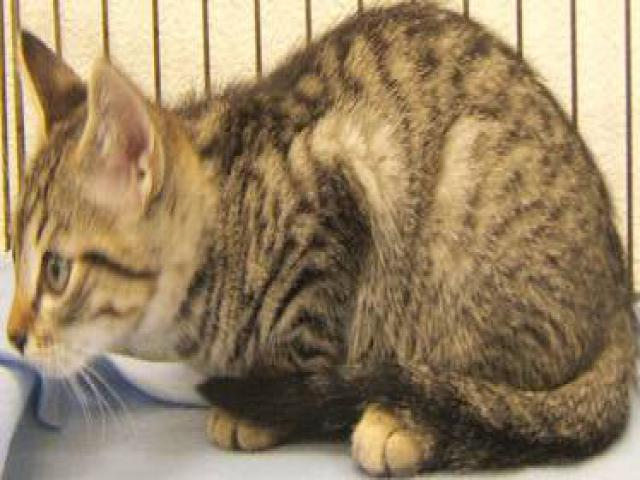cat: (1, 1, 638, 472)
